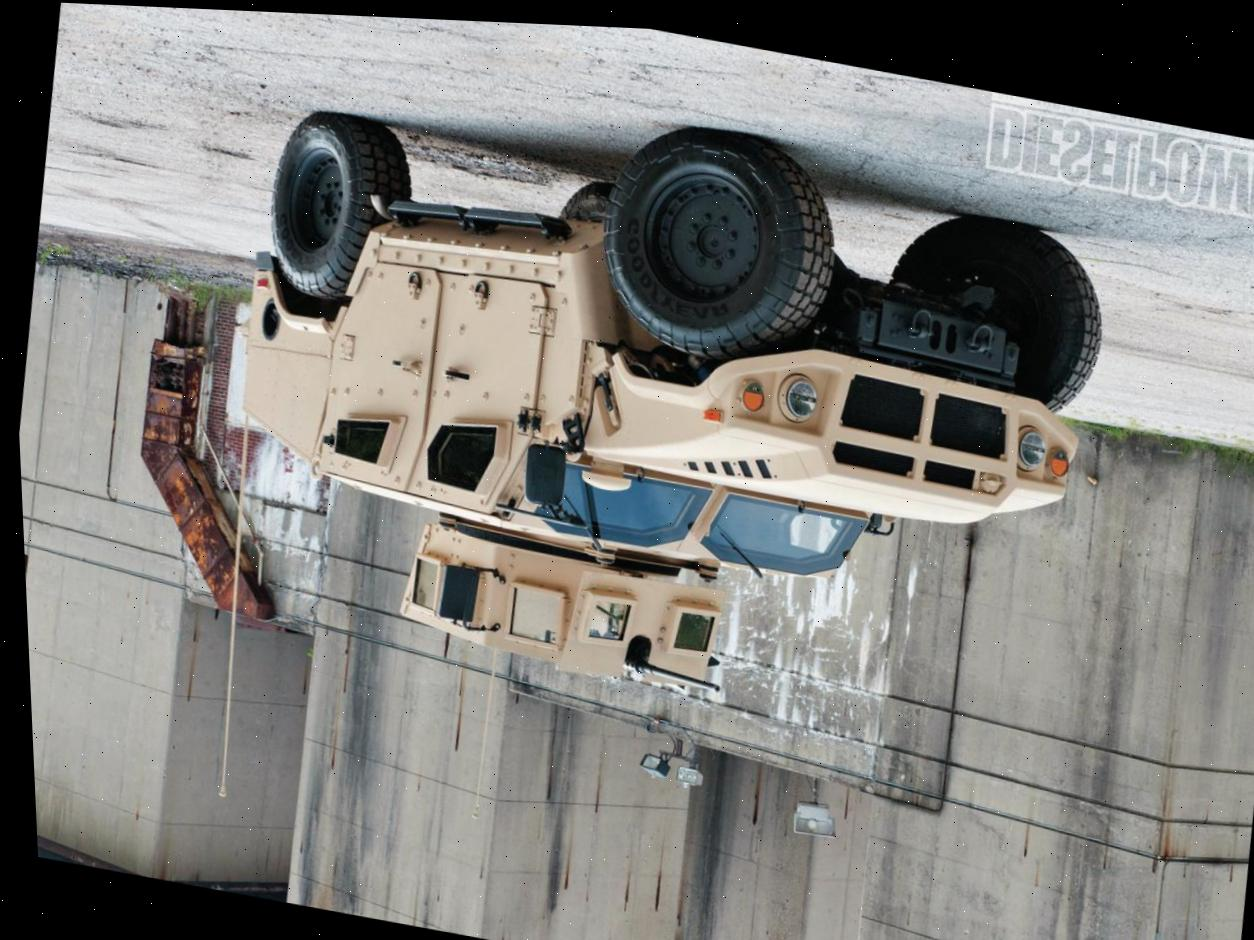armored_car: (195, 42, 1140, 762)
